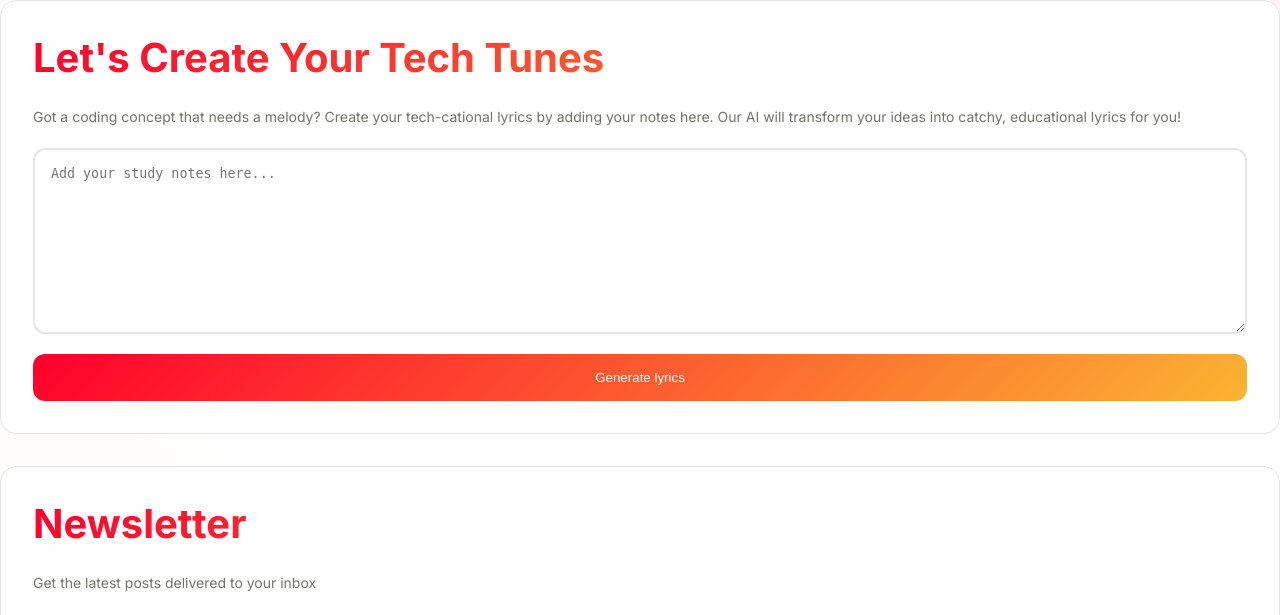
Scenario: Sidebar Component › shows loading state when generating lyrics
This screenshot has width=1280, height=615.
In the text box with placeholder "Add your study notes here...": x=640, y=241 [33,148,1247,334], type "React hooks tutorial"
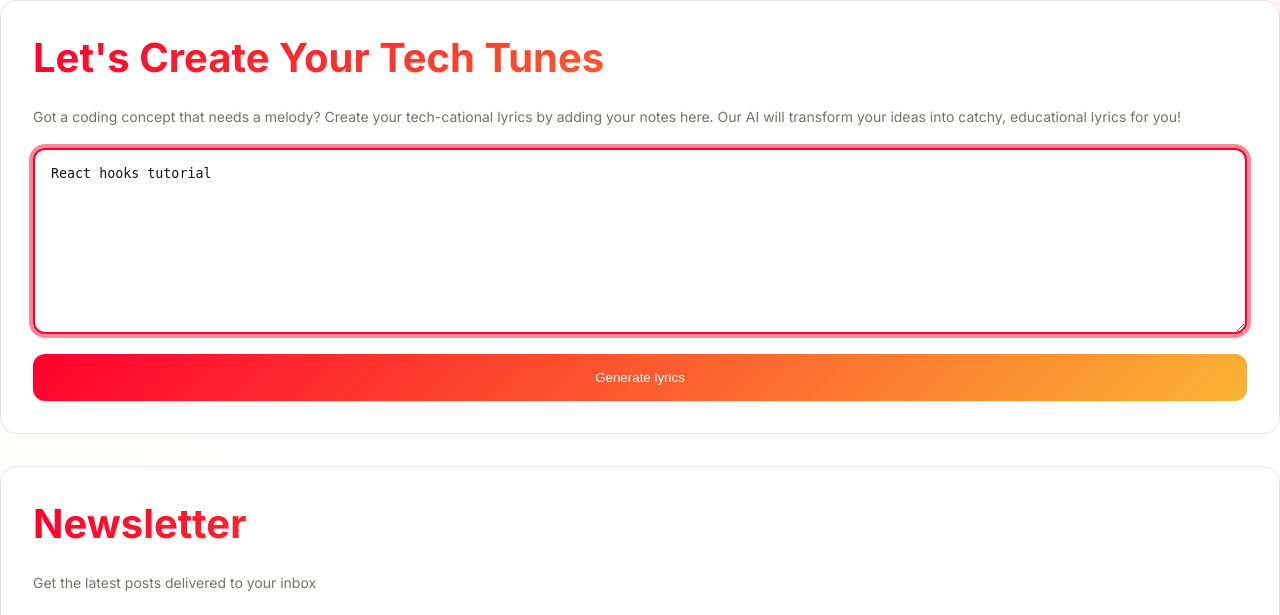
Click the button "Generate lyrics": x=640, y=378 [33,354,1247,401]
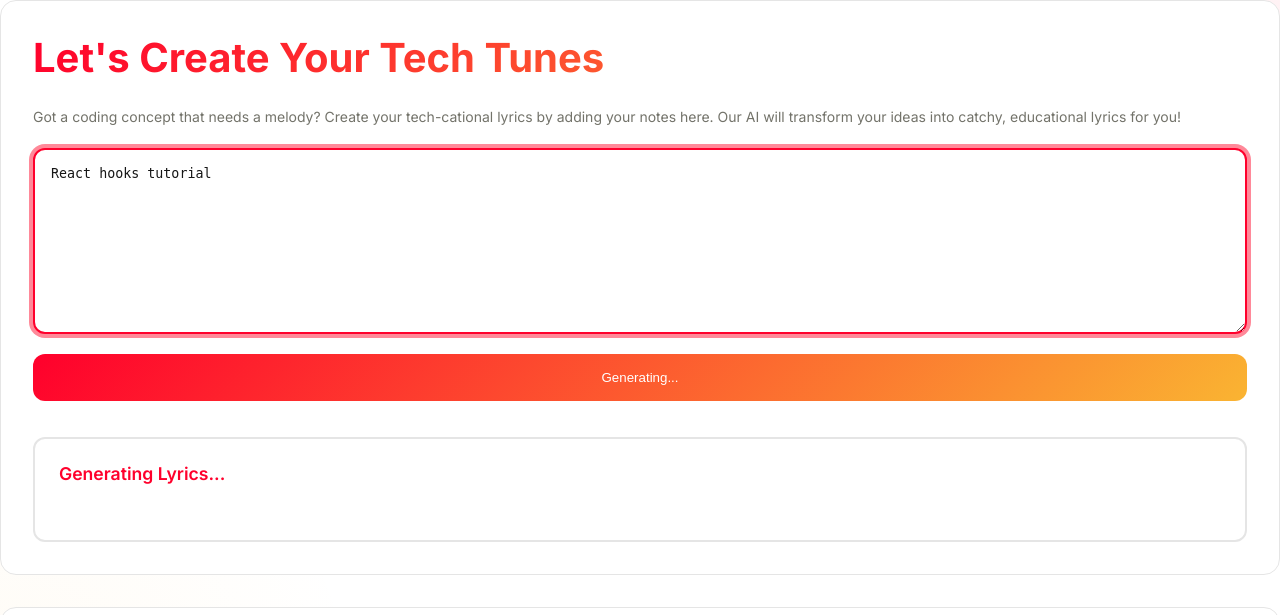
Expected: the button "Generating..." is shown, [33,354,1247,401]
Expected: the heading "Generating Lyrics..." is shown, [59,463,225,484]
